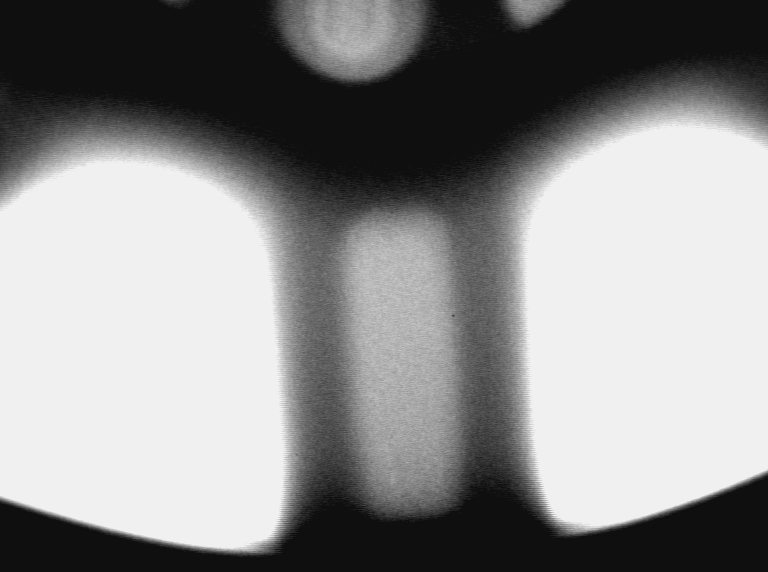defect: (381, 442, 401, 491)
